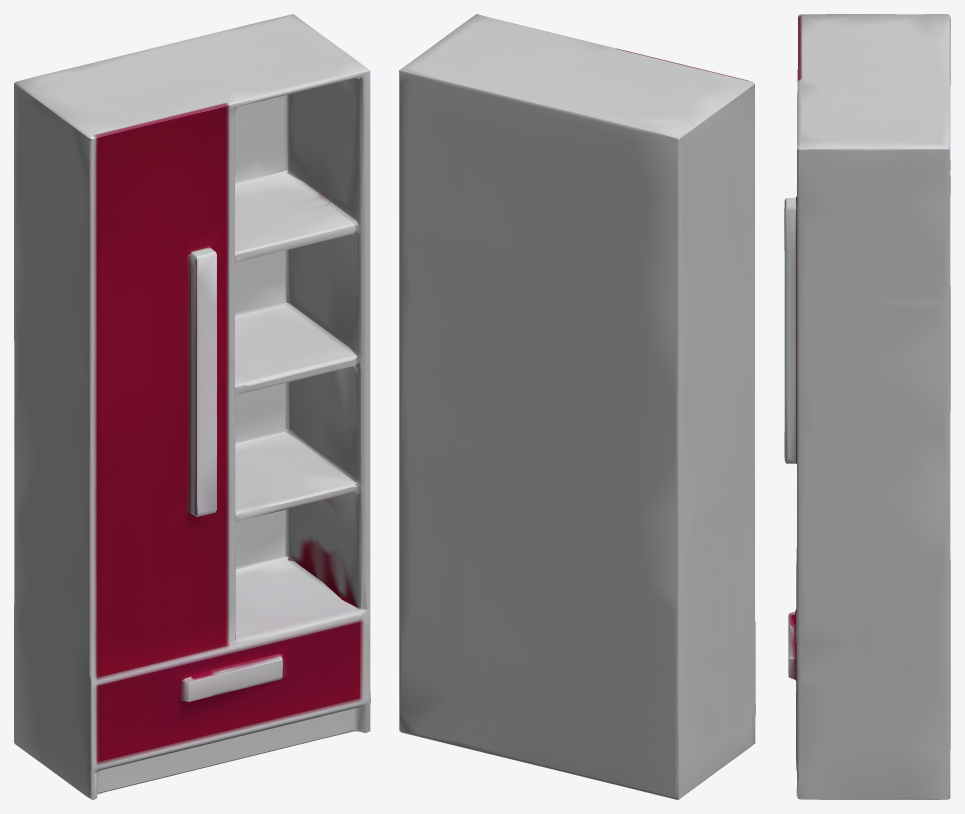
File: ArmoireEnfantFemale_3D_textured.glb
3 views of the same model, side by side, from view 1: azimuth 30°, elevation 25°; view 2: azimuth 150°, elevation 25°; view 3: azimuth 270°, elevation 25° (orthographic).
Parts seen in each view (by area): view 1: temp_mesh.ply; view 2: temp_mesh.ply; view 3: temp_mesh.ply.
Boxes of the visible parts, left/top/right/bottom form: temp_mesh.ply: left=14, top=14, right=370, bottom=799; temp_mesh.ply: left=399, top=14, right=755, bottom=799; temp_mesh.ply: left=784, top=14, right=950, bottom=799.
Bounding box in the file's own units: 0.8739 × 1.97 × 0.4549.
1 material, 1 textured.
